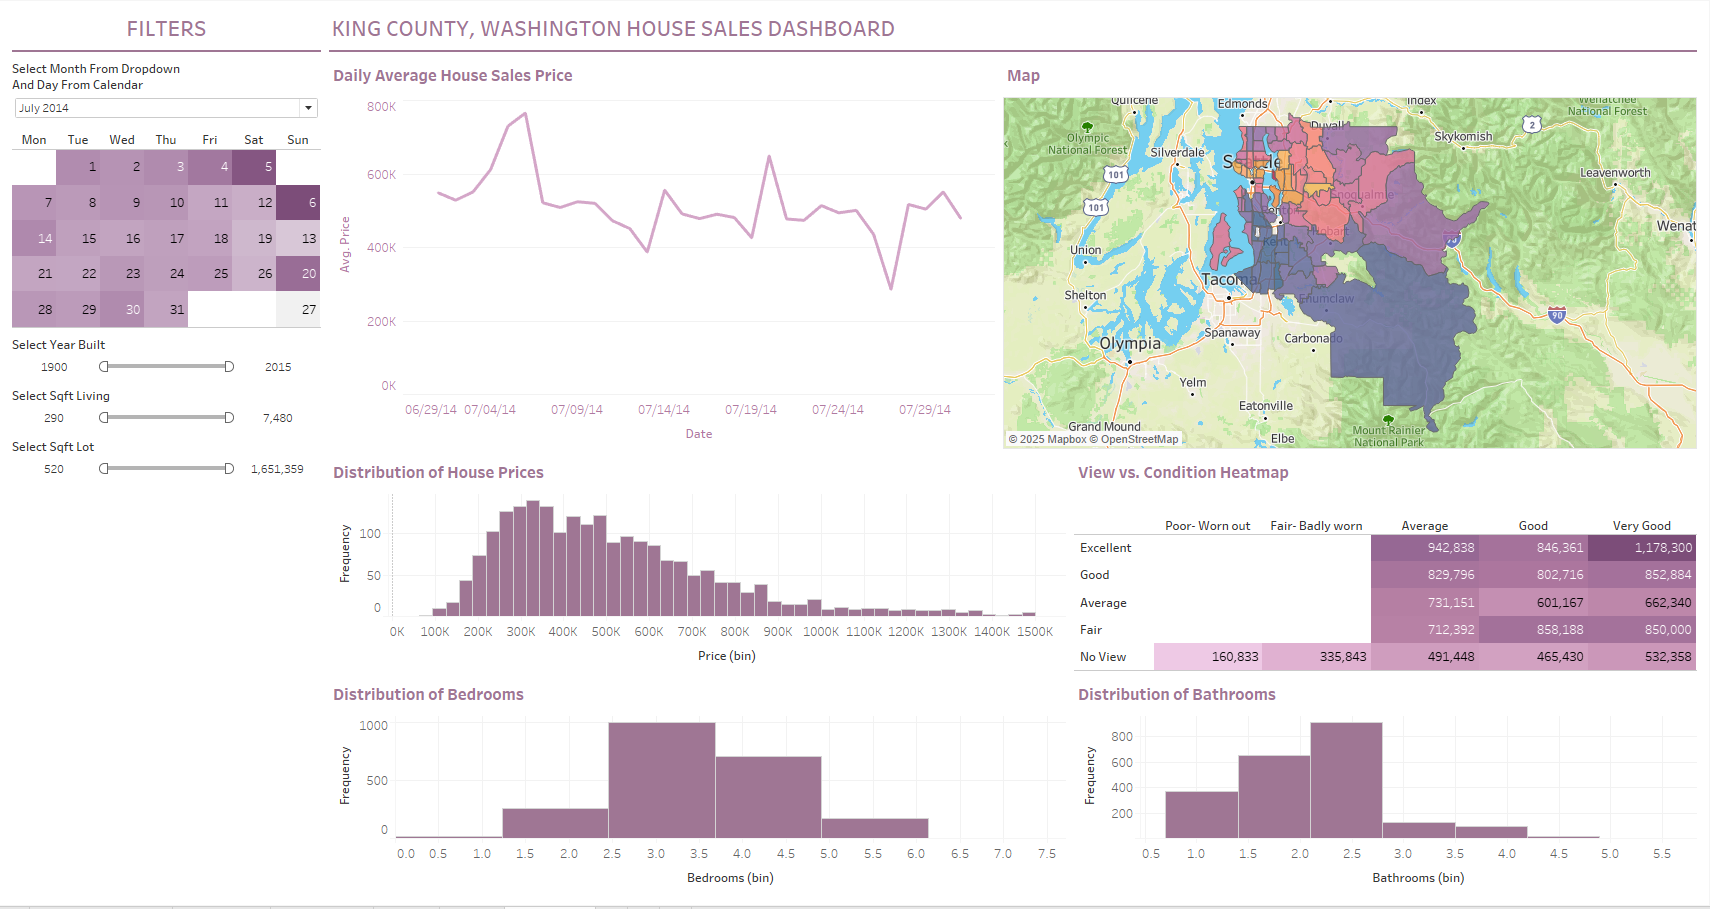

The page's visual inventory and layout, read from the dashboard file:
{"tool":"tableau","page":{"name":"Dashboard 1","canvas":[1000,1000],"units":"permille","ordinal":0},"visuals":[{"type":"text","box":[4.7,8.8,185.5,40.9]},{"type":"text","box":[190.2,8.8,805.1,40.9]},{"type":"blank","box":[4.7,49.8,185.5,11.1]},{"type":"blank","box":[190.2,49.8,805.1,11.1]},{"type":"filter","title":"Calendar","param":"[federated.164en34172933s16pczr60r5ckwa].[my:date:ok]","box":[4.7,60.8,185.5,76.3]},{"type":"worksheet","title":"LineChart","mark":"Automatic","rows":["price"],"cols":["date"],"box":[190.2,60.8,394.4,439.2]},{"type":"worksheet","title":"map","mark":"Automatic","box":[584.6,60.8,410.8,439.2]},{"type":"worksheet","title":"Calendar","mark":"Square","rows":["date"],"cols":["date"],"box":[4.7,137.2,185.5,229]},{"type":"filter","title":"Calendar","param":"[federated.164en34172933s16pczr60r5ckwa].[none:yr_built:qk]","box":[4.7,366.2,185.5,56.4]},{"type":"filter","title":"Calendar","param":"[federated.164en34172933s16pczr60r5ckwa].[none:sqft_living:qk]","box":[4.7,422.6,185.5,56.4]},{"type":"filter","title":"Calendar","param":"[federated.164en34172933s16pczr60r5ckwa].[none:sqft_lot:qk]","box":[4.7,479,185.5,56.4]},{"type":"worksheet","title":"Histogram house price","mark":"Automatic","rows":["price"],"cols":["Price (bin)"],"box":[190.2,500,435.9,245.6]},{"type":"worksheet","title":"Heatmap","mark":"Square","rows":["view"],"cols":["condition"],"box":[626.1,500,369.2,245.6]},{"type":"worksheet","title":"Hist Bedrooms","mark":"Automatic","rows":["bedrooms"],"cols":["Bedrooms (bin)"],"box":[190.2,745.6,435.9,245.6]},{"type":"worksheet","title":"Hist Bathrooms","mark":"Automatic","rows":["bathrooms"],"cols":["Bathrooms (bin)"],"box":[626.1,745.6,369.2,245.6]}]}

Visuals, with their boxes on the dashboard's canvas, which has no fixed pixel size, in thousandths of its width and height (x1, y1, x2, y2). These are canvas units, not pixel positions in the 1710x909 screenshot, which may show the page scaled, cropped or inside an application window:
text: left=5, top=9, right=190, bottom=50
text: left=190, top=9, right=995, bottom=50
blank: left=5, top=50, right=190, bottom=61
blank: left=190, top=50, right=995, bottom=61
"Calendar" filter: left=5, top=61, right=190, bottom=137
"LineChart" worksheet: left=190, top=61, right=585, bottom=500
"map" worksheet: left=585, top=61, right=995, bottom=500
"Calendar" worksheet (Square marks): left=5, top=137, right=190, bottom=366
"Calendar" filter: left=5, top=366, right=190, bottom=423
"Calendar" filter: left=5, top=423, right=190, bottom=479
"Calendar" filter: left=5, top=479, right=190, bottom=535
"Histogram house price" worksheet: left=190, top=500, right=626, bottom=746
"Heatmap" worksheet (Square marks): left=626, top=500, right=995, bottom=746
"Hist Bedrooms" worksheet: left=190, top=746, right=626, bottom=991
"Hist Bathrooms" worksheet: left=626, top=746, right=995, bottom=991
